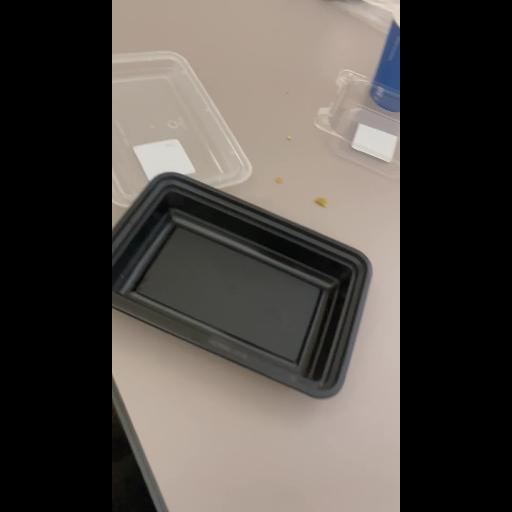rigid_plastic_container: (112, 168, 382, 406)
